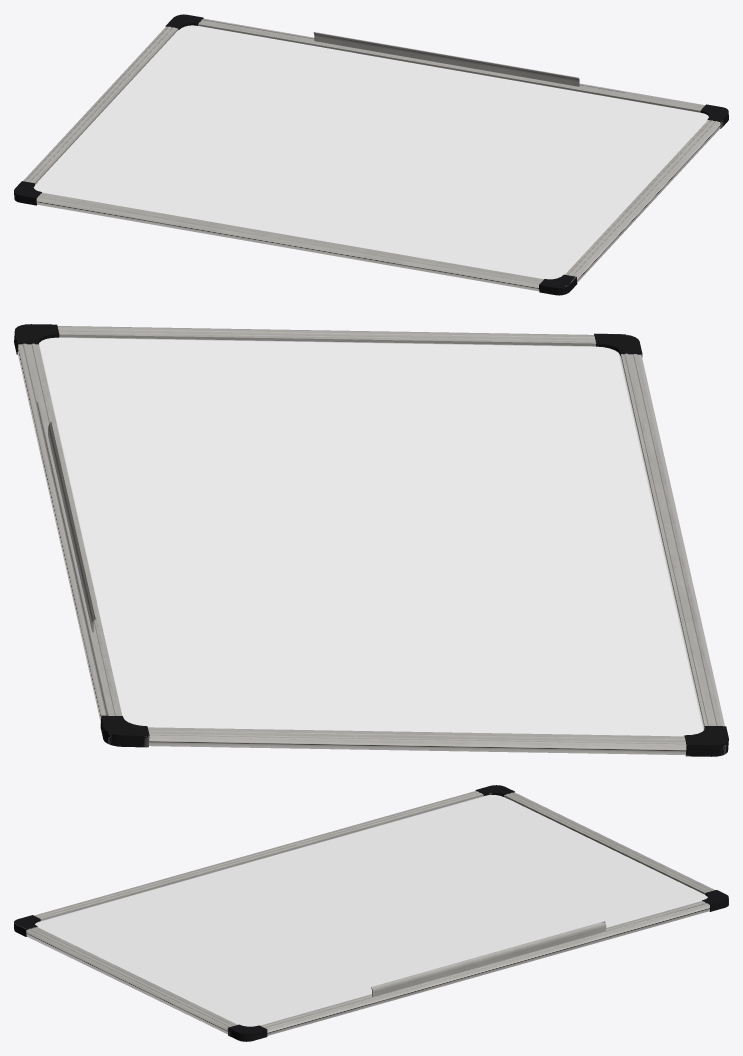
The model's file is Pizarra blanca.glb.
3 renders of one model, top to bottom at view 1: azimuth 30°, elevation 25°; view 2: azimuth 150°, elevation 25°; view 3: azimuth 270°, elevation 25°, orthographic. The views are drawn at different scales.
Visible parts, largest first — view 1: Escritorio_Pizarra blanca; view 2: Escritorio_Pizarra blanca; view 3: Escritorio_Pizarra blanca.
Part boxes in pixels (x1,y1,x2,y2): Escritorio_Pizarra blanca: (14, 14, 728, 295); Escritorio_Pizarra blanca: (14, 324, 728, 756); Escritorio_Pizarra blanca: (14, 785, 728, 1041).
Bounding box in the file's own units: 0.3757 × 0.029 × 0.4015.
1 material, 1 textured.
